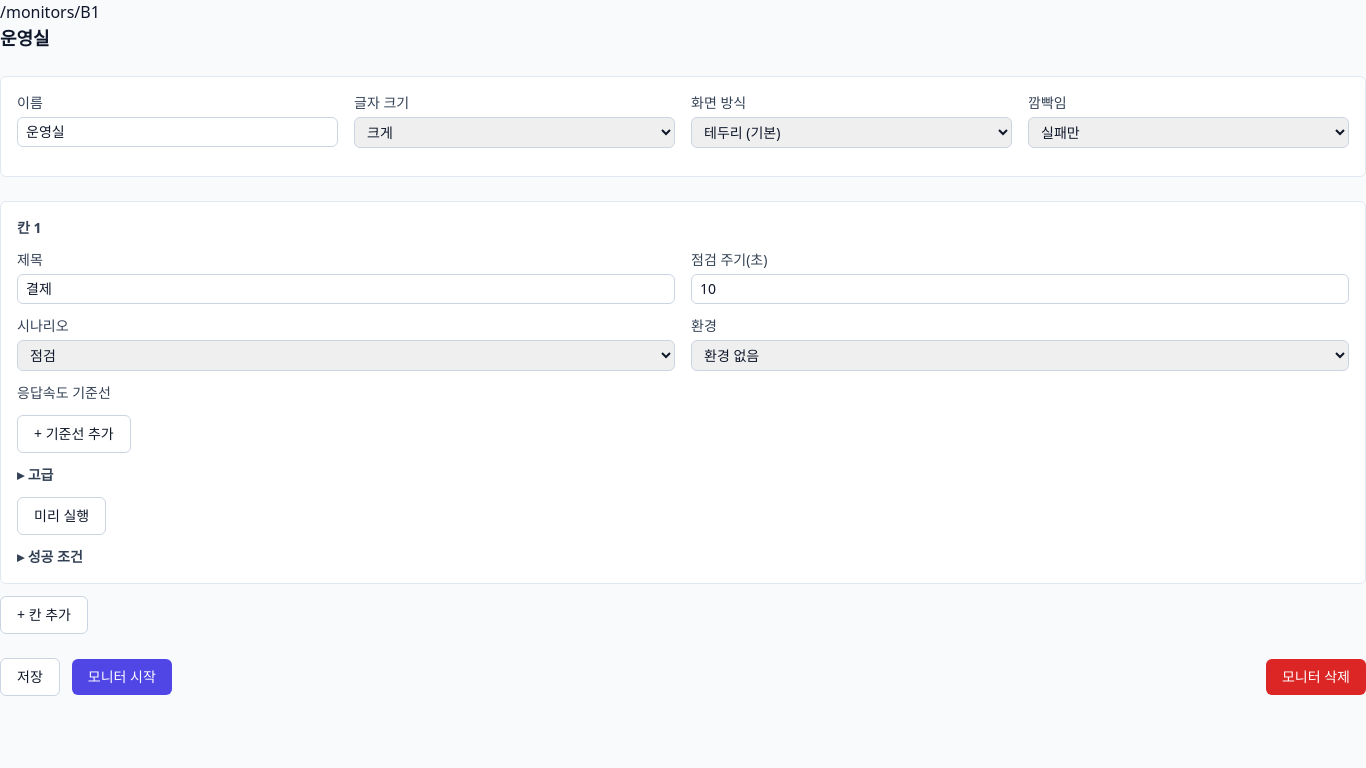
Test: MonitorEditPage › preview_shows_verdict_and_raw_error
Click the button "미리 실행" at (62, 516), box [17,497,106,535]
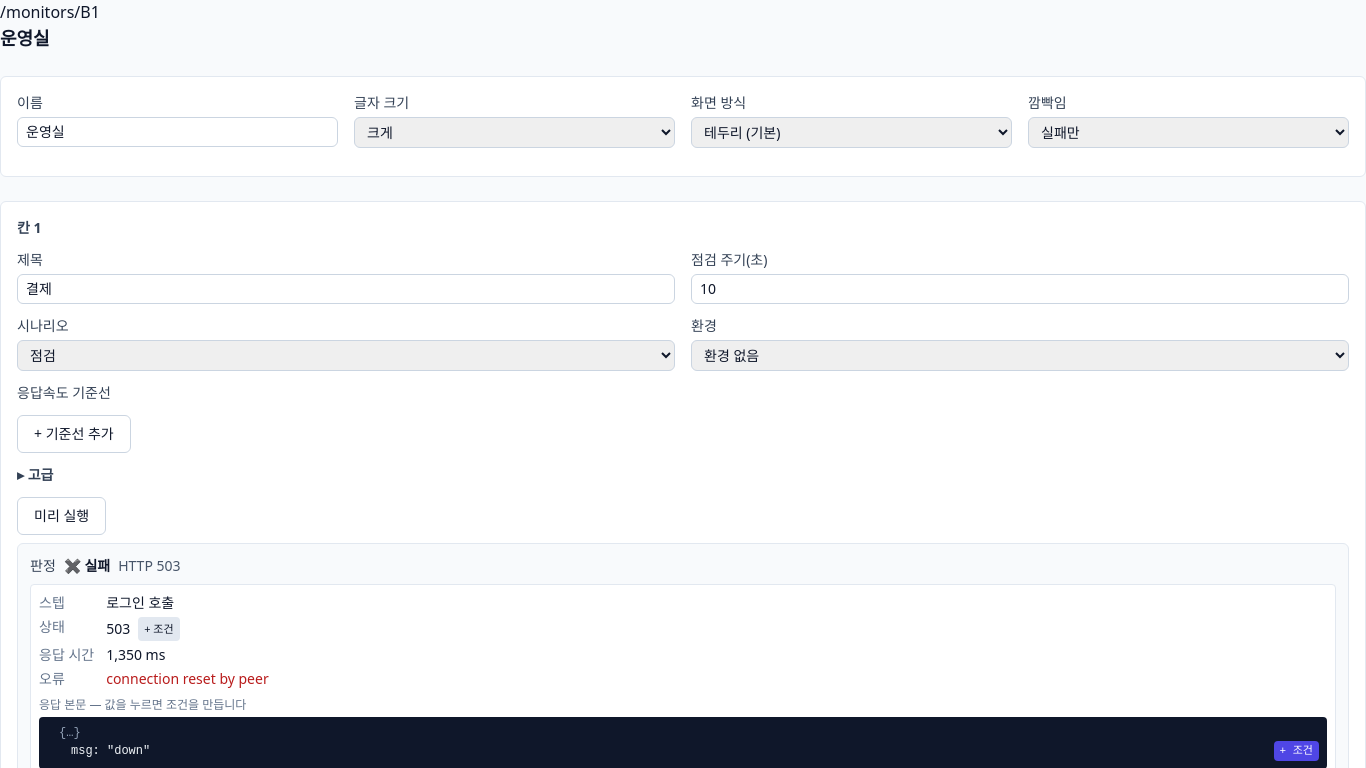
Expected: the text "connection reset by peer" is shown, [106,669,269,688]
Expected: the text "503" is shown, [106,619,130,639]
Expected: the text "1,350 ms" is shown, [106,645,165,664]
